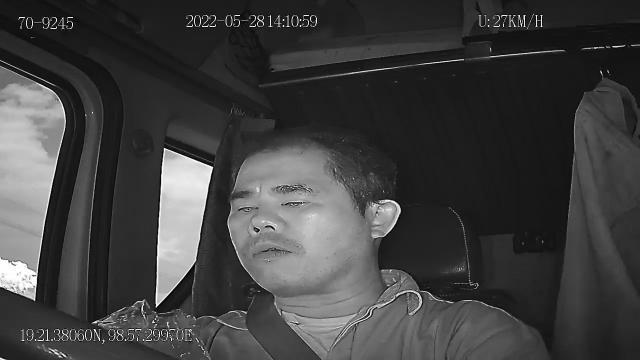SafeDriving: (271, 184, 321, 214), (228, 193, 263, 219)
Seatbelt: (236, 280, 334, 360)
